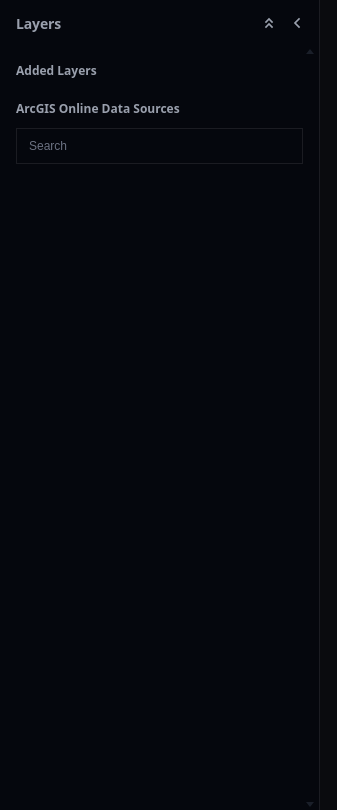
Test case: LayerPanel › 输入关键词防抖后渲染搜索结果卡片
This screenshot has width=337, height=810.
Type "imagery" into the field with test id "layer-search".
click(160, 146); type("imagery")  # box [29,139,290,153]
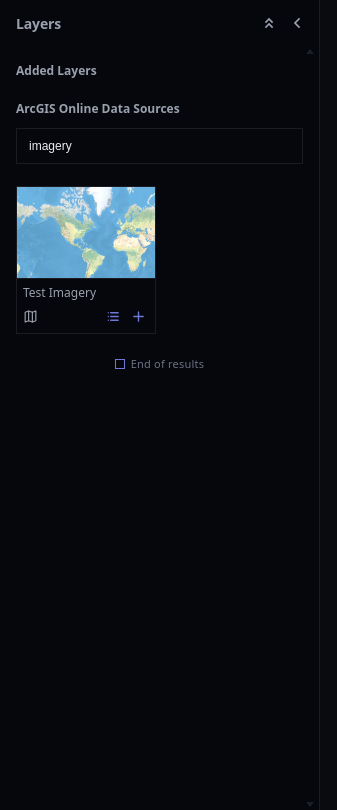
expect the text "Test Imagery" is shown: met, box [23,284,96,301]
